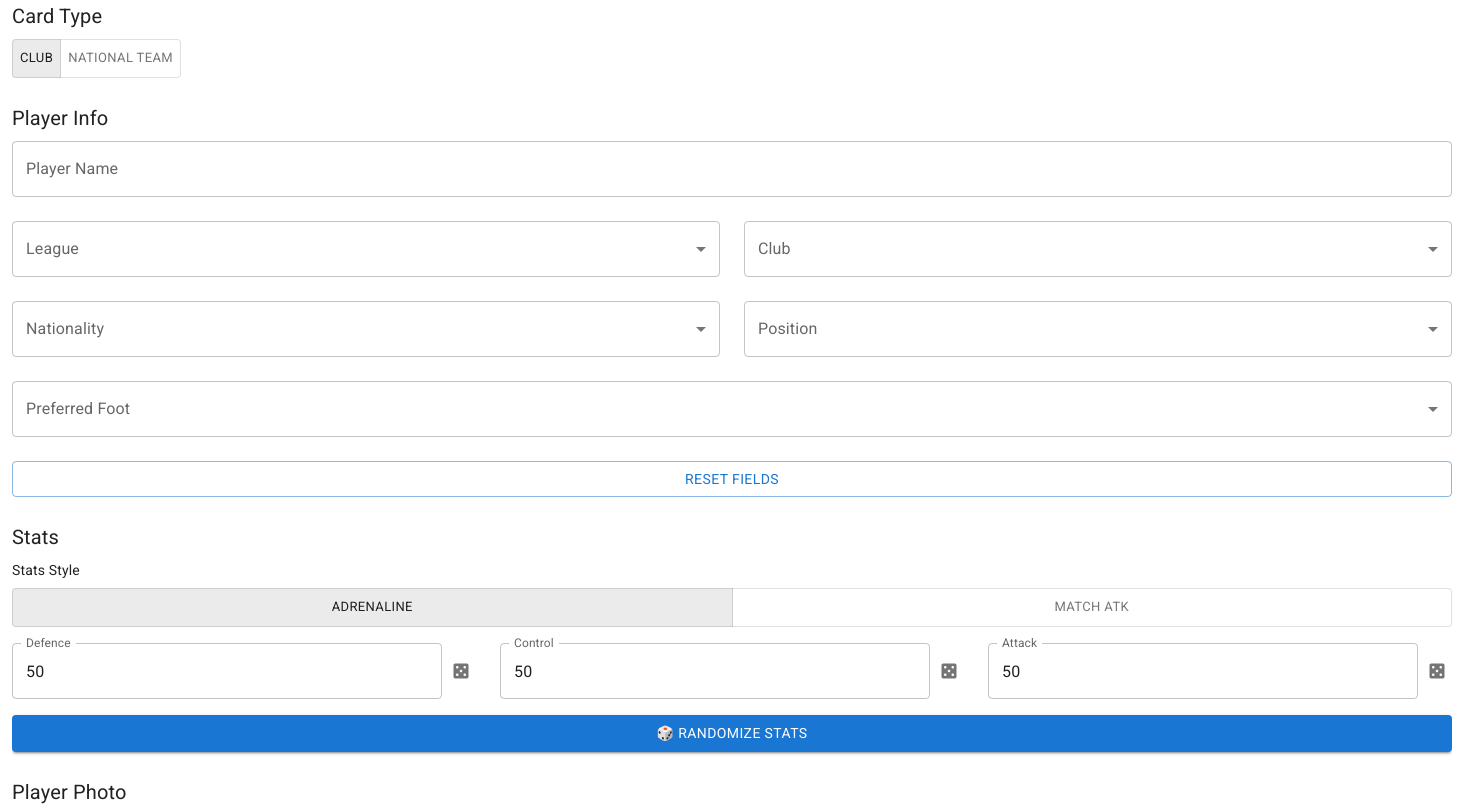
Test: CardForm Component › auto-populates league when a known club is selected
Press the mouse on the dropdown named "Club": (1098, 249) [744,221,1452,277]
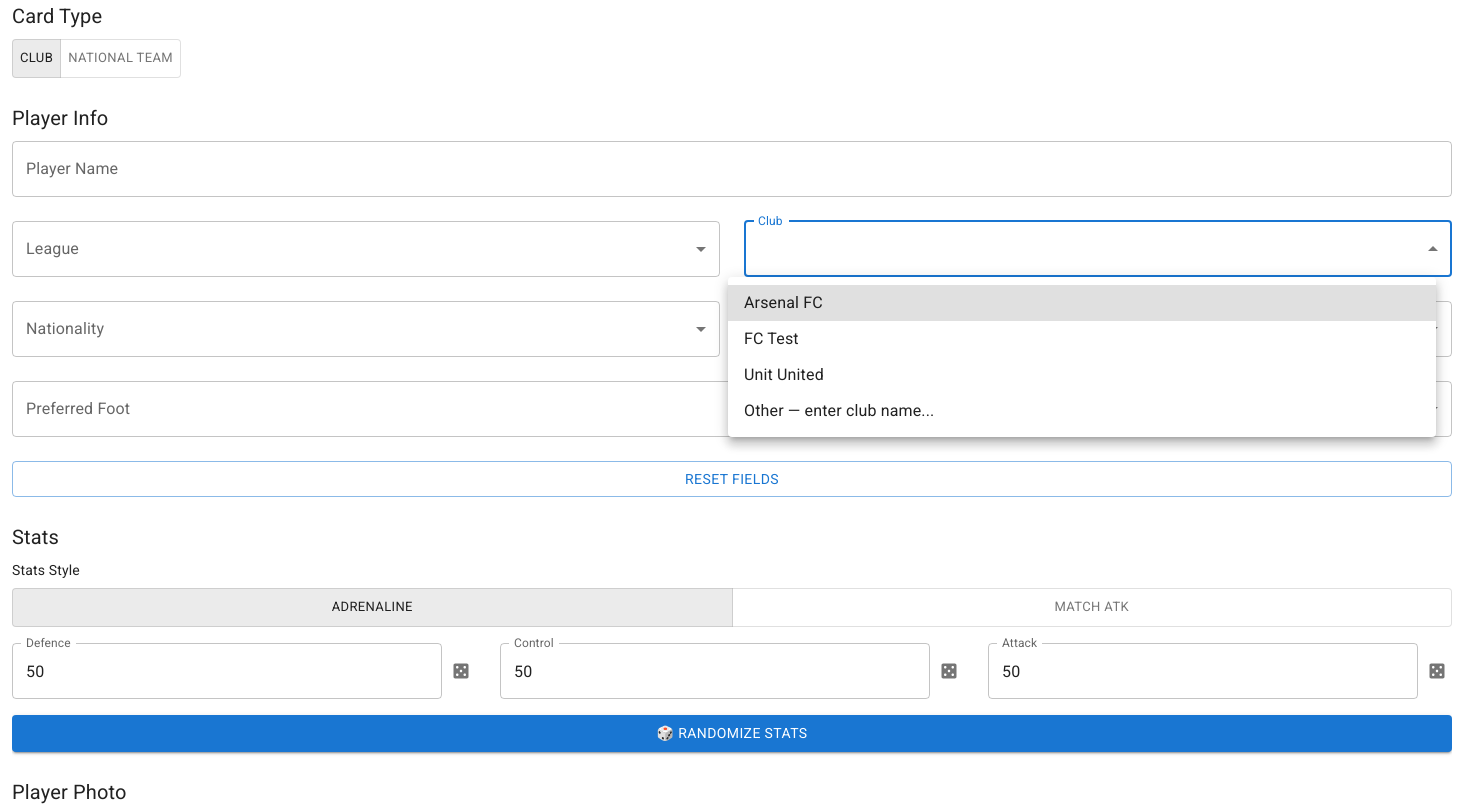
Click the option "Arsenal FC": (783, 302) [728,285,1436,321]
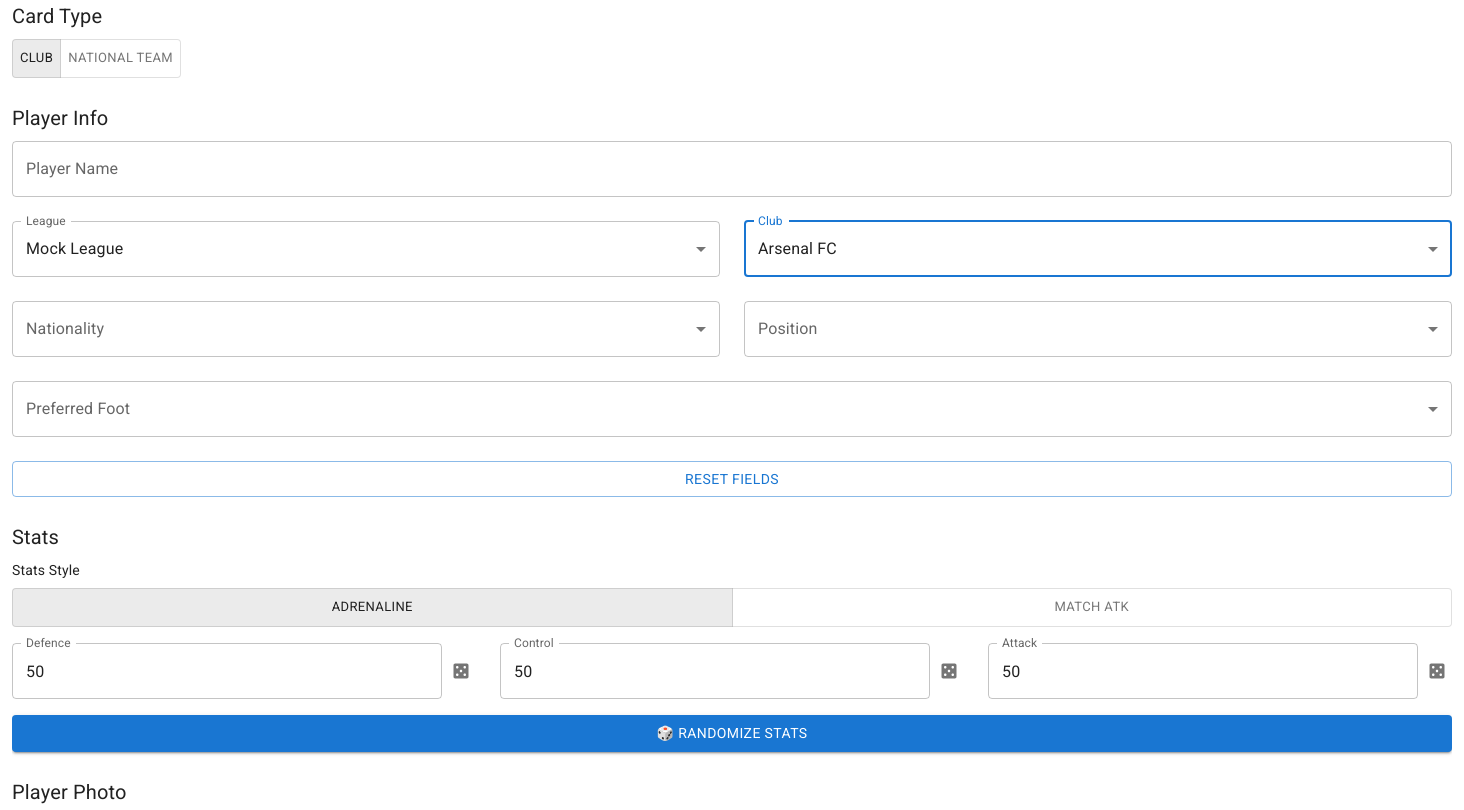
Now the dropdown labelled "Mock League" is shown, box [26,239,123,258]
